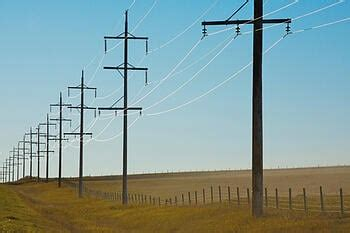pole: (97, 5, 163, 210)
